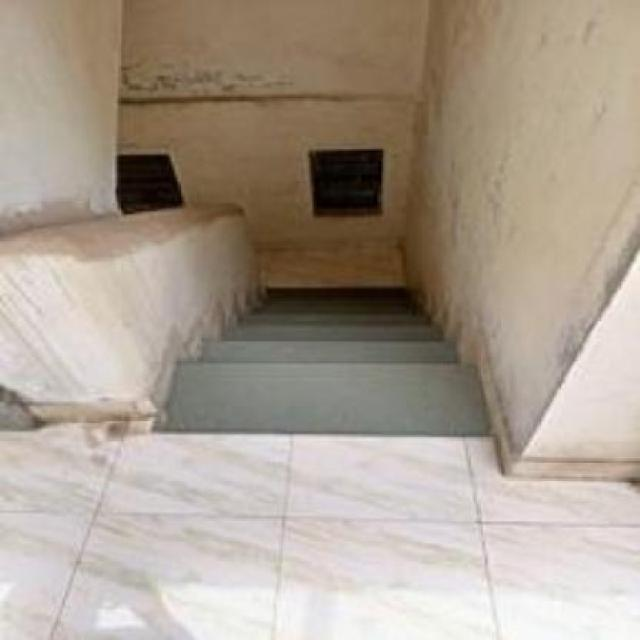stair: (158, 256, 484, 438)
